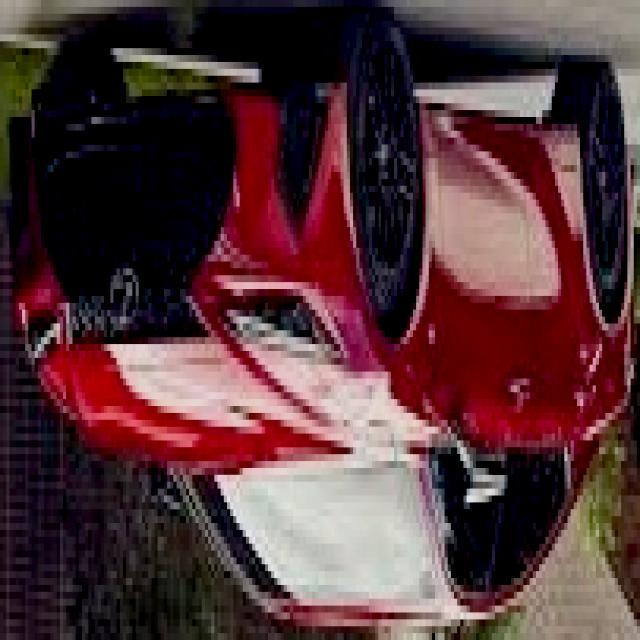red: (0, 76, 629, 619)
